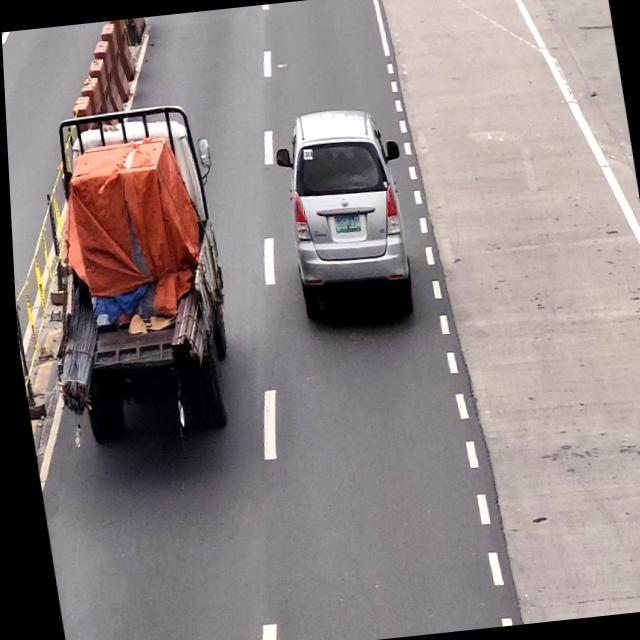Car: (277, 104, 417, 327)
License-Plate: (331, 214, 358, 233)
Truck: (29, 99, 248, 453)
